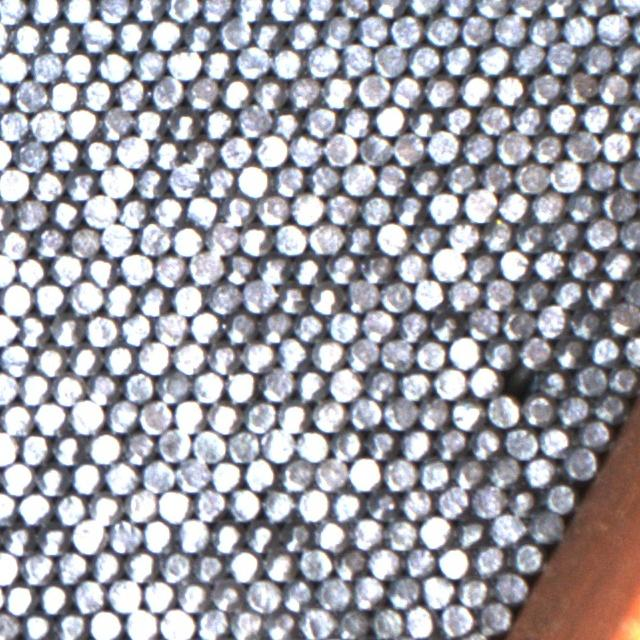tool: (484, 392, 520, 427), (470, 483, 506, 518), (486, 452, 522, 487), (259, 366, 294, 401), (70, 518, 105, 553), (155, 369, 190, 404), (462, 187, 497, 222), (67, 279, 102, 314), (281, 576, 315, 612), (298, 545, 332, 580), (170, 281, 204, 316), (472, 541, 506, 576), (245, 578, 280, 612), (395, 307, 429, 342), (345, 335, 379, 370), (348, 395, 382, 430), (584, 214, 618, 249), (459, 130, 494, 164), (172, 339, 206, 374), (312, 396, 346, 431), (363, 366, 397, 401), (434, 483, 468, 518), (332, 546, 367, 580), (261, 426, 295, 461), (174, 456, 208, 491), (561, 445, 596, 479), (333, 606, 368, 640), (605, 299, 639, 334), (479, 160, 514, 194), (172, 398, 206, 432), (522, 392, 556, 426), (447, 334, 481, 368), (106, 518, 140, 552), (70, 398, 104, 432), (157, 487, 191, 521), (14, 196, 48, 230), (142, 577, 176, 611), (548, 158, 582, 192), (20, 549, 54, 583), (421, 572, 455, 606), (218, 132, 252, 166), (492, 570, 526, 604), (89, 548, 123, 582), (496, 129, 530, 163), (510, 41, 544, 75), (32, 281, 66, 315), (383, 395, 417, 429), (566, 188, 600, 222), (243, 398, 277, 432), (261, 486, 295, 520), (341, 161, 375, 195), (262, 547, 296, 581), (314, 518, 348, 552), (440, 602, 474, 636), (296, 487, 330, 521), (140, 458, 174, 492), (82, 193, 116, 227), (407, 42, 441, 76), (136, 282, 170, 316), (602, 186, 636, 220), (290, 190, 324, 224), (33, 343, 67, 377), (188, 309, 222, 343), (87, 492, 121, 526), (565, 128, 599, 162), (349, 516, 383, 550), (254, 192, 288, 226), (433, 425, 467, 459), (490, 511, 524, 545), (136, 221, 170, 255), (80, 17, 114, 51), (108, 577, 142, 611), (500, 306, 534, 340), (338, 42, 372, 76), (294, 368, 328, 402), (238, 222, 272, 256), (386, 573, 420, 607), (104, 459, 138, 493), (424, 73, 458, 107), (34, 400, 68, 434), (379, 337, 413, 371), (100, 222, 134, 256), (279, 457, 313, 491), (531, 188, 565, 222), (504, 424, 538, 458), (304, 44, 338, 78), (123, 488, 157, 522), (601, 246, 635, 280), (390, 73, 424, 107), (564, 68, 598, 102), (102, 282, 136, 316), (182, 19, 216, 53), (466, 305, 500, 339), (121, 430, 155, 464), (568, 304, 602, 338), (344, 277, 378, 311), (276, 398, 310, 432), (364, 426, 398, 460), (204, 220, 238, 254), (314, 456, 348, 490), (328, 366, 362, 400), (552, 335, 586, 369), (99, 163, 133, 197), (299, 605, 333, 639), (516, 276, 550, 310), (456, 573, 490, 607), (227, 486, 261, 520), (450, 454, 484, 488), (583, 275, 617, 309), (412, 276, 446, 310), (278, 518, 312, 552), (378, 278, 412, 312), (252, 76, 286, 110), (476, 601, 510, 635), (528, 508, 562, 542), (442, 41, 475, 76), (425, 12, 458, 47), (137, 339, 170, 374), (348, 456, 381, 491), (243, 455, 276, 490), (209, 578, 244, 611), (537, 423, 572, 456), (207, 399, 240, 434), (176, 516, 209, 551), (476, 101, 511, 134), (0, 340, 32, 376), (317, 575, 350, 609), (86, 312, 119, 346), (561, 12, 594, 46), (350, 574, 383, 608), (323, 131, 356, 165), (311, 336, 344, 370), (414, 337, 448, 370), (436, 545, 470, 578), (544, 40, 578, 73), (306, 162, 340, 195), (432, 365, 466, 398), (444, 160, 478, 193), (139, 399, 172, 433), (18, 370, 51, 404), (255, 132, 288, 166), (358, 193, 392, 226), (237, 163, 270, 197), (409, 162, 443, 195), (469, 424, 502, 458), (417, 396, 450, 430), (55, 548, 88, 582), (446, 218, 479, 252), (450, 396, 483, 430), (191, 368, 224, 402), (193, 486, 226, 520), (209, 520, 242, 554), (272, 163, 305, 197), (324, 190, 357, 224), (476, 41, 509, 75), (320, 14, 353, 48), (519, 334, 552, 368), (30, 106, 63, 140), (273, 221, 307, 254), (598, 71, 632, 104), (15, 138, 48, 172), (18, 490, 51, 524), (308, 221, 342, 254), (483, 336, 517, 369), (224, 369, 257, 403), (192, 549, 225, 583), (390, 13, 423, 47), (69, 460, 103, 493), (105, 398, 138, 432), (467, 363, 500, 397), (588, 333, 621, 367), (398, 367, 431, 401), (361, 307, 394, 341), (158, 549, 192, 582), (528, 70, 561, 104), (599, 127, 632, 161), (359, 250, 393, 283), (357, 132, 391, 165), (459, 72, 493, 105), (206, 280, 239, 314), (68, 343, 102, 376), (29, 48, 62, 82), (285, 17, 319, 50), (132, 106, 165, 140), (35, 462, 68, 496), (36, 522, 69, 556), (548, 217, 581, 251), (98, 105, 131, 139), (565, 245, 599, 278), (13, 78, 46, 112), (166, 106, 199, 140), (365, 486, 398, 520), (527, 13, 560, 47), (86, 372, 119, 406), (583, 157, 617, 190), (355, 72, 389, 105), (223, 310, 257, 343), (48, 137, 81, 171), (102, 342, 136, 375), (132, 47, 166, 80), (373, 102, 407, 135), (157, 427, 190, 461), (430, 247, 464, 280), (44, 20, 78, 53), (0, 401, 33, 435), (427, 188, 460, 222), (72, 579, 106, 612), (339, 104, 373, 137), (228, 607, 262, 640), (227, 548, 260, 582), (556, 391, 589, 425), (464, 248, 497, 282), (50, 313, 84, 346), (226, 428, 259, 462), (536, 365, 570, 398), (244, 520, 278, 553), (87, 430, 120, 464), (263, 607, 297, 640), (1, 522, 34, 556), (501, 359, 535, 392), (409, 220, 444, 252), (116, 134, 149, 167), (384, 517, 417, 550), (494, 72, 527, 105), (373, 42, 406, 75), (459, 13, 492, 46), (418, 514, 451, 547), (270, 45, 303, 78), (367, 545, 400, 578), (218, 16, 251, 49), (167, 47, 200, 80), (270, 106, 303, 139), (573, 362, 606, 395), (67, 224, 100, 257), (596, 12, 629, 45), (133, 166, 166, 199), (241, 339, 274, 372), (209, 458, 242, 491), (31, 169, 64, 202), (185, 193, 218, 226), (115, 19, 148, 52), (236, 44, 269, 77), (53, 491, 86, 524), (11, 21, 44, 54), (170, 224, 203, 257), (393, 193, 426, 226), (375, 162, 408, 195), (400, 486, 433, 519), (220, 193, 253, 226), (447, 277, 480, 310), (382, 457, 415, 490), (160, 607, 193, 640), (399, 426, 432, 459), (237, 103, 270, 136), (16, 313, 49, 346), (64, 168, 97, 201), (119, 251, 152, 284), (296, 428, 329, 461), (356, 13, 389, 46), (192, 429, 225, 462), (32, 224, 65, 257), (190, 250, 223, 283), (1, 461, 34, 494), (195, 607, 228, 640), (184, 137, 217, 170), (579, 41, 612, 74), (80, 77, 113, 110), (203, 165, 236, 198), (481, 217, 514, 250), (580, 99, 613, 132), (304, 104, 337, 137), (242, 278, 275, 311), (115, 76, 148, 109), (417, 456, 450, 489), (512, 102, 545, 135), (150, 75, 183, 108), (85, 253, 118, 286), (202, 105, 235, 138), (506, 483, 539, 516), (453, 514, 486, 547), (142, 518, 174, 552), (82, 137, 116, 169), (516, 159, 548, 193), (498, 188, 530, 222), (509, 540, 543, 572), (18, 431, 50, 465), (149, 17, 181, 51), (120, 310, 152, 344), (392, 131, 424, 165), (259, 308, 291, 342), (322, 74, 354, 108), (62, 50, 96, 82), (402, 544, 434, 578), (88, 608, 122, 640), (425, 130, 459, 162), (288, 74, 320, 108), (4, 581, 36, 615), (330, 426, 362, 460), (124, 608, 158, 640), (514, 218, 546, 252), (151, 193, 183, 227), (46, 78, 80, 110), (257, 253, 291, 285), (48, 252, 82, 284), (52, 432, 84, 466), (576, 416, 610, 448), (498, 246, 530, 279), (395, 249, 427, 282), (167, 164, 200, 196), (207, 342, 240, 374), (65, 106, 97, 139), (376, 220, 408, 253), (121, 370, 154, 402), (494, 12, 526, 45), (154, 311, 186, 344), (292, 309, 324, 342), (288, 134, 321, 166), (118, 195, 150, 228), (124, 548, 156, 581), (308, 281, 340, 314), (344, 223, 376, 256), (546, 100, 578, 133), (523, 454, 556, 486), (482, 276, 514, 309), (49, 196, 81, 229), (370, 606, 403, 638), (326, 308, 359, 340), (38, 581, 70, 614), (202, 47, 234, 80), (330, 488, 363, 520), (154, 252, 186, 285), (532, 246, 564, 279), (14, 253, 46, 286), (534, 304, 567, 336), (276, 337, 308, 370), (176, 580, 209, 612), (186, 75, 218, 108), (442, 102, 474, 135), (252, 17, 284, 50), (430, 307, 462, 340), (544, 480, 576, 513), (98, 49, 130, 81), (220, 76, 252, 108), (404, 604, 436, 636), (594, 390, 626, 422), (407, 105, 439, 137), (223, 252, 255, 284), (292, 253, 324, 285), (276, 282, 308, 314), (0, 282, 32, 314), (52, 372, 84, 404), (150, 137, 182, 169), (326, 252, 358, 284), (531, 130, 563, 162), (608, 362, 640, 394), (0, 166, 29, 201), (551, 277, 583, 308), (0, 226, 30, 258), (19, 611, 52, 640), (0, 108, 29, 140), (54, 611, 86, 640), (0, 49, 28, 82), (613, 41, 640, 74), (615, 99, 640, 132), (96, 0, 130, 23), (62, 0, 94, 24), (131, 0, 164, 23), (28, 0, 61, 23), (199, 0, 232, 23), (618, 157, 640, 191), (233, 0, 267, 22), (618, 215, 640, 249), (268, 0, 302, 21), (302, 0, 336, 21), (166, 0, 198, 22), (0, 550, 20, 584), (0, 0, 27, 24), (338, 0, 372, 18), (622, 273, 640, 307), (374, 0, 406, 19), (0, 491, 17, 525), (0, 370, 17, 404), (623, 334, 640, 368), (544, 0, 576, 18), (476, 0, 508, 18), (0, 610, 19, 640), (511, 0, 544, 17), (0, 430, 16, 464), (442, 0, 474, 17), (577, 0, 610, 16), (0, 311, 15, 345), (0, 252, 15, 286), (408, 0, 440, 15)
